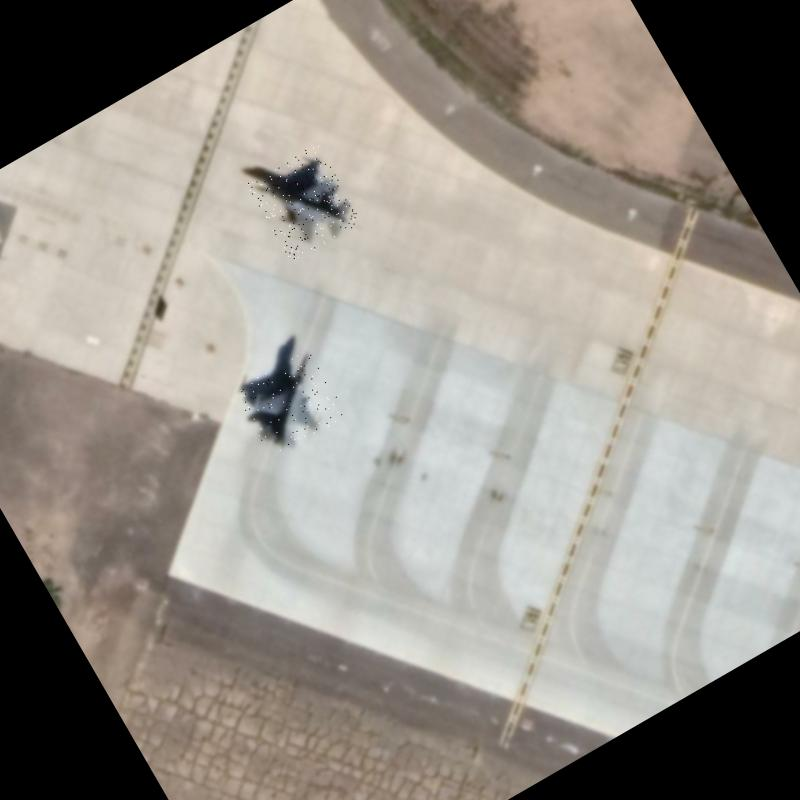A5: (246, 142, 364, 262), (233, 348, 348, 460)
